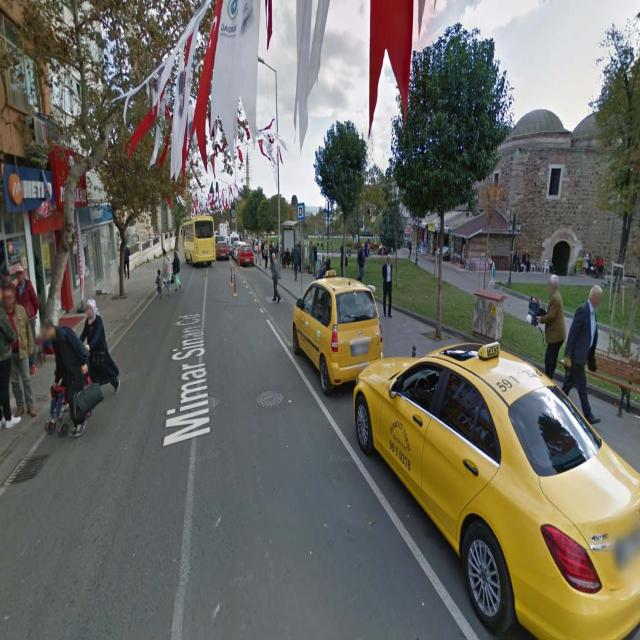durak: (296, 202, 304, 220)
